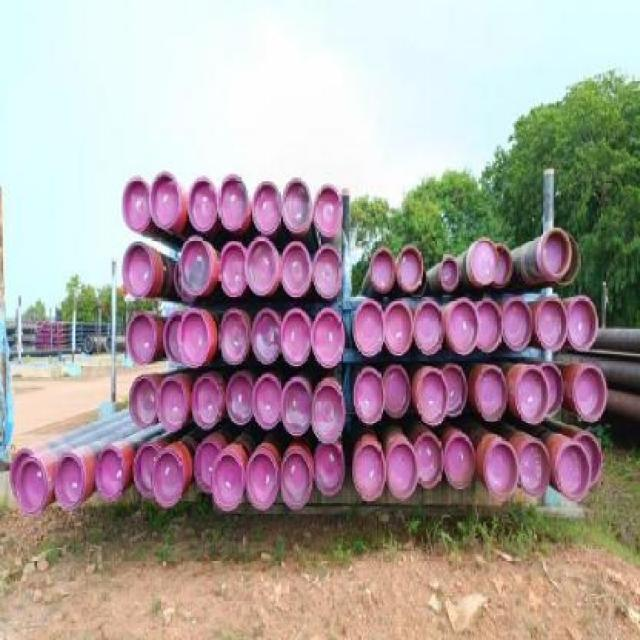pipe: (480, 435, 520, 500), (553, 438, 593, 500), (311, 379, 347, 445), (151, 445, 187, 508), (445, 294, 481, 356), (514, 363, 551, 423), (571, 363, 608, 423), (517, 435, 551, 500), (176, 309, 213, 368), (279, 305, 313, 368), (246, 448, 280, 511), (245, 234, 279, 296), (311, 306, 345, 368), (279, 448, 313, 510), (352, 438, 386, 500), (416, 365, 450, 427), (179, 234, 214, 294), (210, 449, 245, 509), (14, 457, 50, 515), (386, 437, 419, 500), (443, 428, 476, 491), (280, 374, 313, 436), (120, 239, 154, 299), (148, 169, 182, 229), (534, 293, 568, 353), (352, 297, 385, 357), (186, 175, 219, 234), (217, 172, 250, 231), (280, 240, 313, 299), (218, 306, 251, 365), (191, 371, 224, 430), (475, 363, 508, 422), (566, 291, 599, 350), (52, 451, 86, 508), (155, 373, 188, 431), (352, 365, 385, 423), (414, 298, 447, 354), (251, 177, 282, 236), (282, 175, 313, 234), (219, 238, 250, 297), (314, 438, 345, 497), (383, 298, 414, 357), (125, 310, 158, 365), (472, 297, 505, 352), (539, 226, 573, 279), (94, 442, 125, 500), (502, 293, 533, 351), (573, 426, 602, 488), (120, 174, 151, 231), (312, 242, 343, 299), (249, 306, 280, 363), (312, 180, 343, 236), (128, 372, 159, 428), (253, 371, 282, 430), (415, 428, 443, 488), (469, 232, 500, 285), (225, 371, 254, 427), (133, 441, 162, 497), (194, 439, 220, 496), (383, 363, 409, 419), (163, 310, 189, 365), (442, 361, 467, 417), (539, 360, 564, 416), (395, 243, 423, 291), (370, 245, 396, 293), (557, 232, 580, 285), (9, 448, 34, 496), (173, 255, 196, 303), (491, 242, 514, 288), (438, 251, 460, 291), (410, 263, 428, 297)
